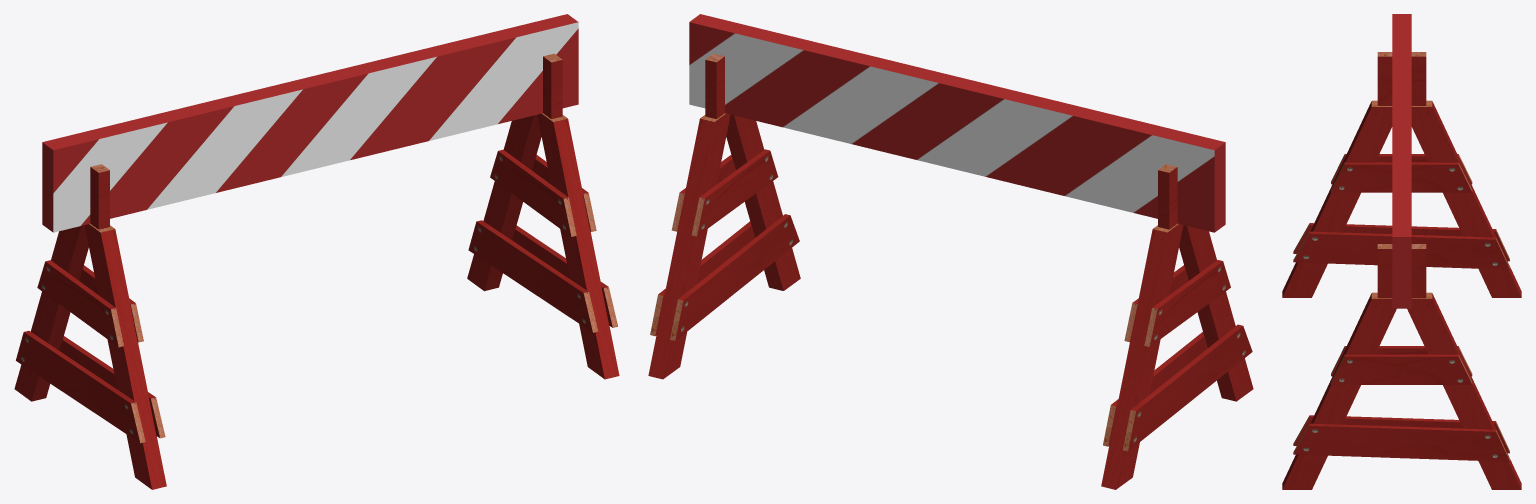
File: TrafficSign_fence.FBX
The picture shows the model from 3 angles, left to right: view 1: azimuth 30°, elevation 25°; view 2: azimuth 150°, elevation 25°; view 3: azimuth 270°, elevation 25°; orthographic projection. The views are drawn at different scales.
Parts seen in each view (by area): view 1: TrafficSign_Fence; view 2: TrafficSign_Fence; view 3: TrafficSign_Fence.
Boxes of the visible parts, box(x1,y1,x2,y2) form: TrafficSign_Fence: box(14, 14, 619, 489); TrafficSign_Fence: box(648, 14, 1253, 489); TrafficSign_Fence: box(1282, 14, 1521, 489).
Bounding box in the file's own units: 54.1 × 29.71 × 24.57.
Materials: 1 (1 with a texture image).
